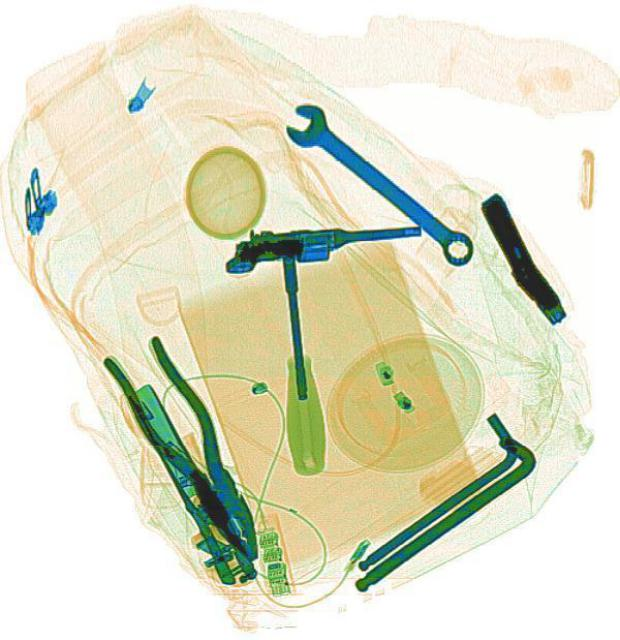Gun: (462, 190, 581, 330), (218, 213, 420, 273)
Pliers: (96, 327, 287, 573)
Wrench: (272, 92, 482, 274)
